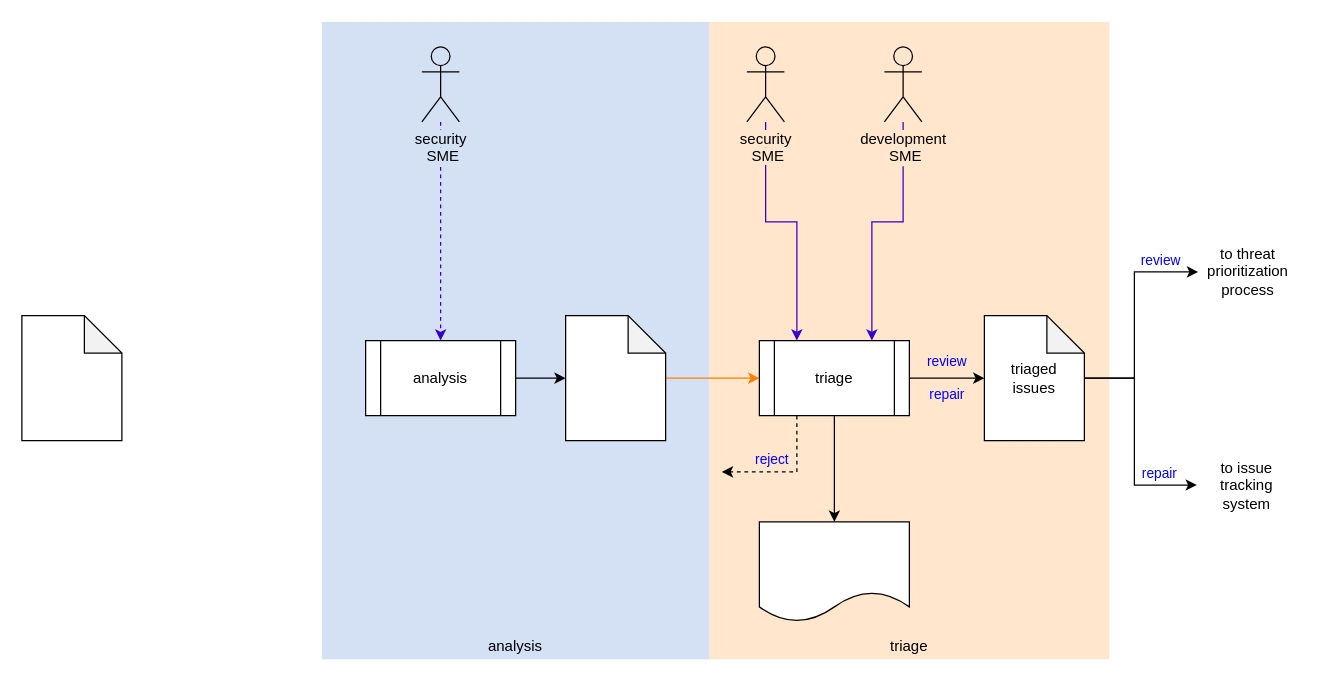
Image size: 1320x680. Some labels were removed from this diagram. The shapes that lost their labels are listed below. From the top down, each one's centre as x and y in pixels, then its label:
At [71,377]: "element".
At [615,377]: "issue candidates".
At [833,571]: "analysis report".
